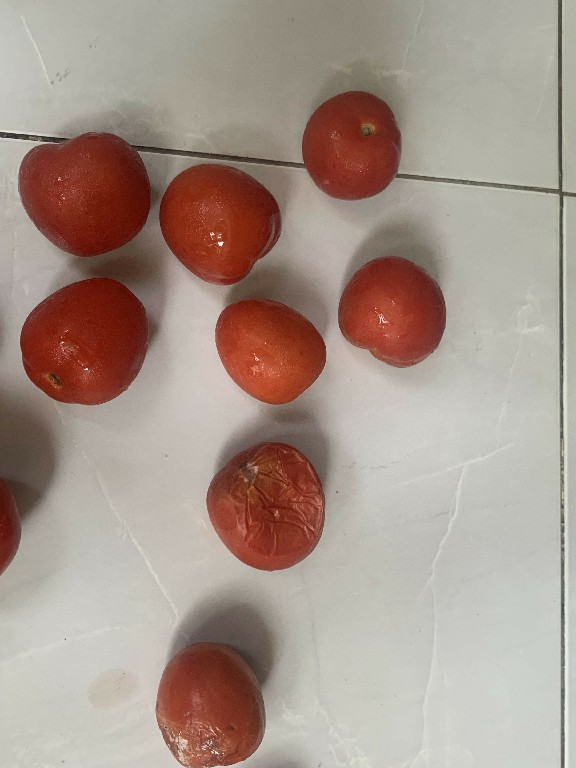NG: (203, 440, 340, 576), (150, 637, 275, 768)
OK: (10, 120, 152, 259), (12, 273, 152, 408), (154, 156, 289, 289), (211, 293, 329, 411), (333, 252, 447, 370), (295, 89, 409, 200)
